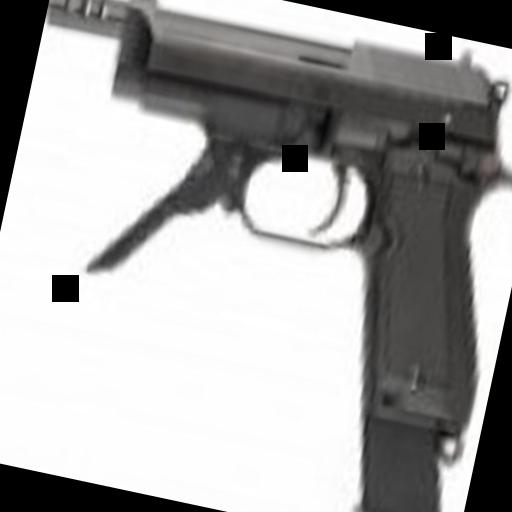Handgun: (42, 0, 512, 451)
